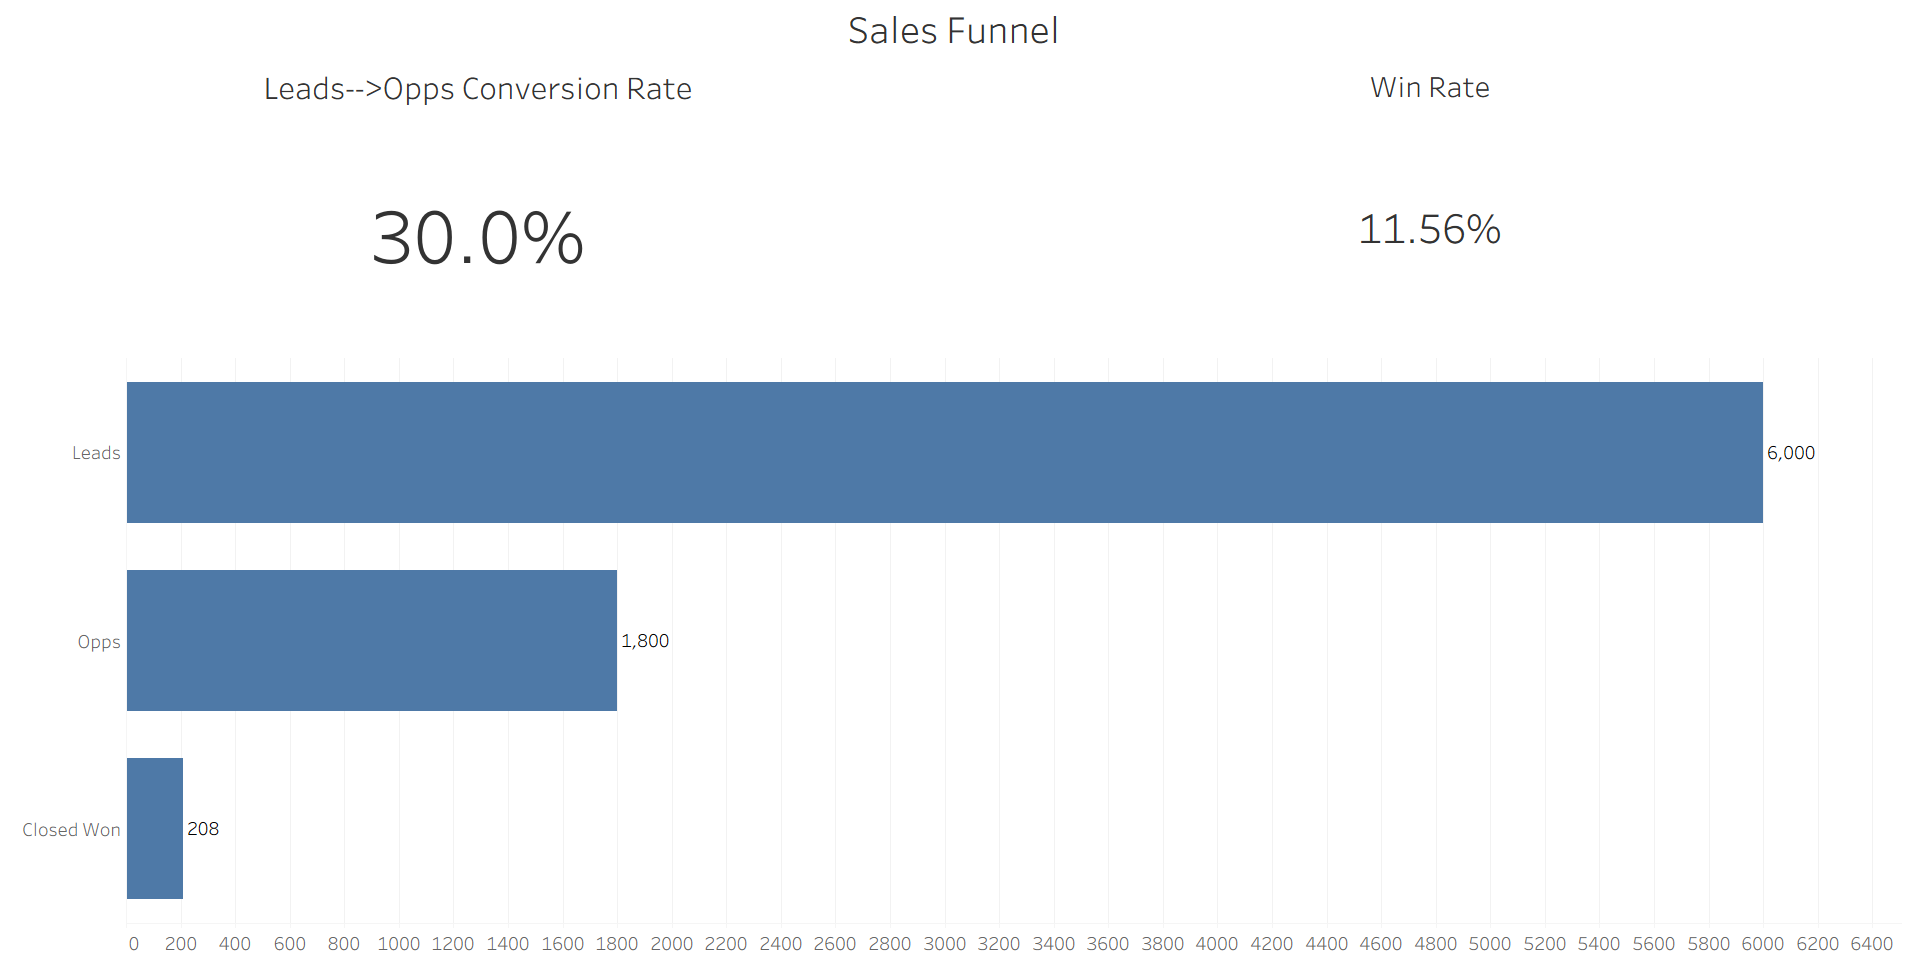

The dashboard page shown, as its layout file describes it:
{"tool":"tableau","page":{"name":"Sales Funnel","canvas":[1000,1000],"units":"permille","ordinal":5},"visuals":[{"type":"worksheet","title":"leadstoopps%","mark":"Automatic","box":[5.1,10.6,494.9,321.9]},{"type":"worksheet","title":"win_rate","mark":"Automatic","box":[500,10.6,494.9,321.9]},{"type":"worksheet","title":"funnel","mark":"Bar","box":[5.1,332.4,989.7,657]}]}

Visuals, with their boxes on the dashboard's canvas, which has no fixed pixel size, in thousandths of its width and height (x1, y1, x2, y2). These are canvas units, not pixel positions in the 1906x960 screenshot, which may show the page scaled, cropped or inside an application window:
"leadstoopps%" worksheet: x1=5 y1=11 x2=500 y2=332
"win_rate" worksheet: x1=500 y1=11 x2=995 y2=332
"funnel" worksheet (Bar marks): x1=5 y1=332 x2=995 y2=989
